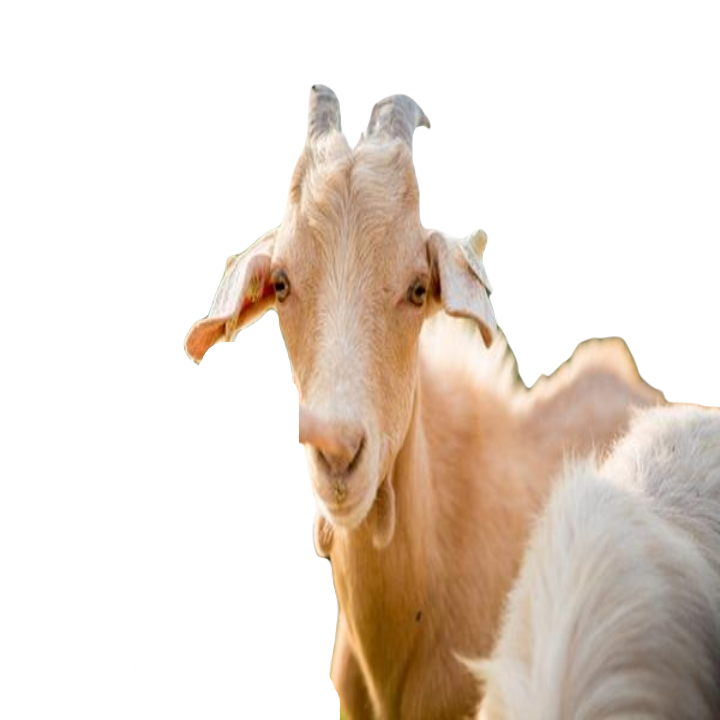Sheep: (185, 80, 649, 719)
